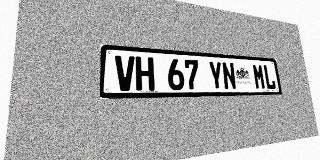6: (167, 58, 185, 90)
7: (183, 59, 200, 90)
H: (135, 56, 155, 91)
L: (263, 64, 276, 89)
M: (252, 64, 266, 89)
N: (221, 62, 237, 90)
V: (115, 55, 135, 91)
Y: (208, 61, 224, 90)
